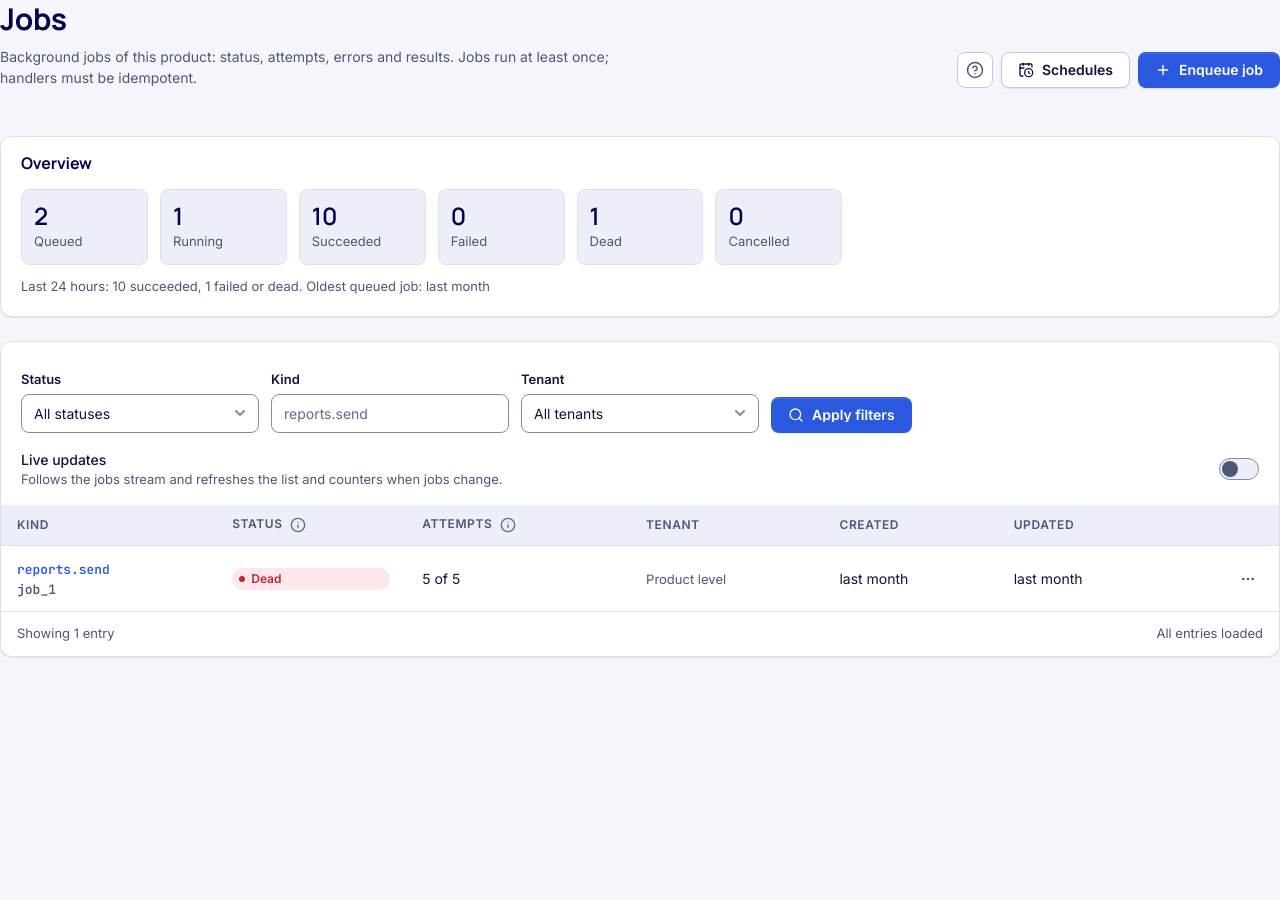
Test: JobsPage › retries a dead job after confirmation
What coordinates should you click on to do the following:
click the button named "Actions for job job_1"
I would click on:
 (1248, 579)
Its box is [1233, 564, 1263, 594].
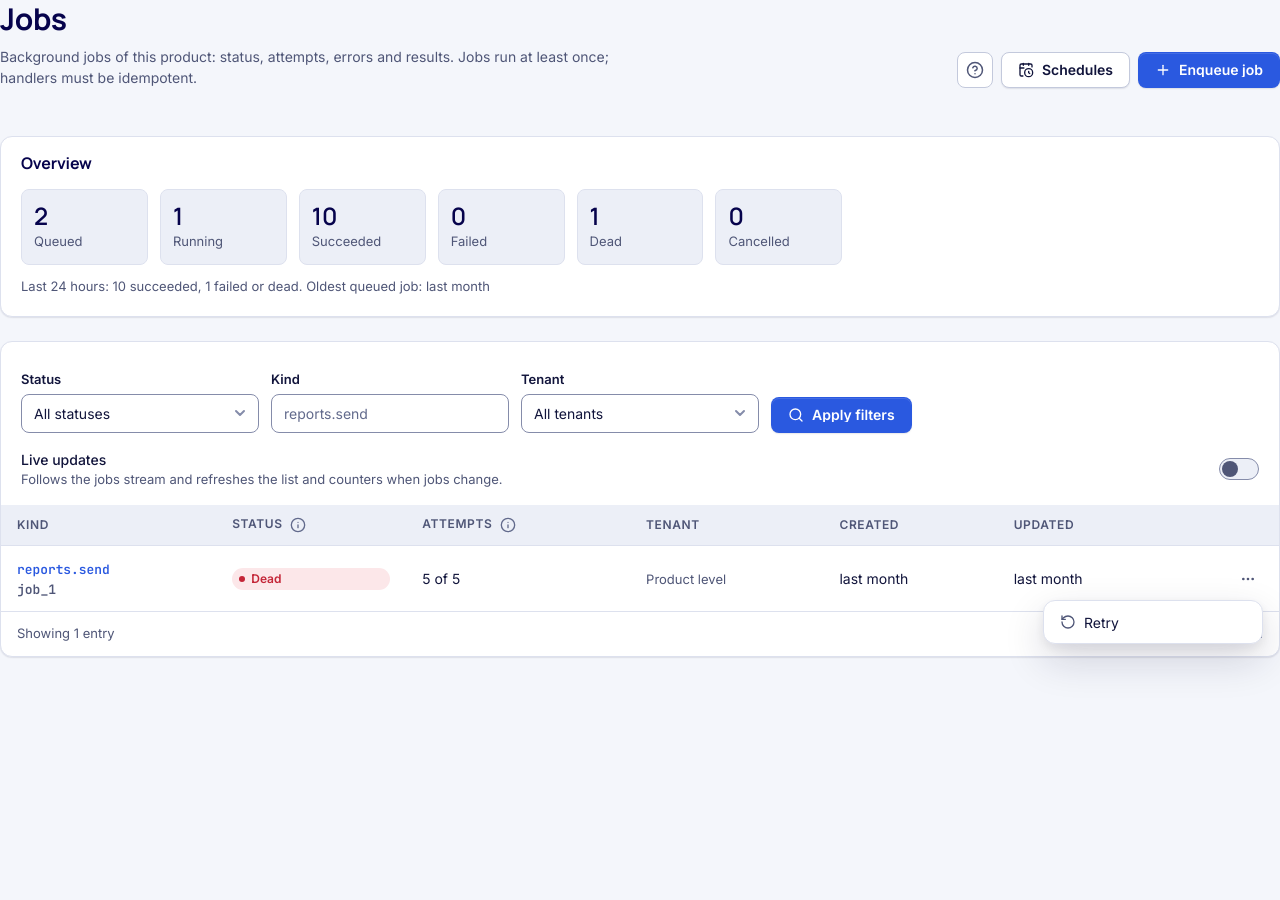
What coordinates should you click on to do the following:
click the menu item "Retry"
I would click on:
 (1089, 622)
Its box is [1060, 614, 1119, 630].
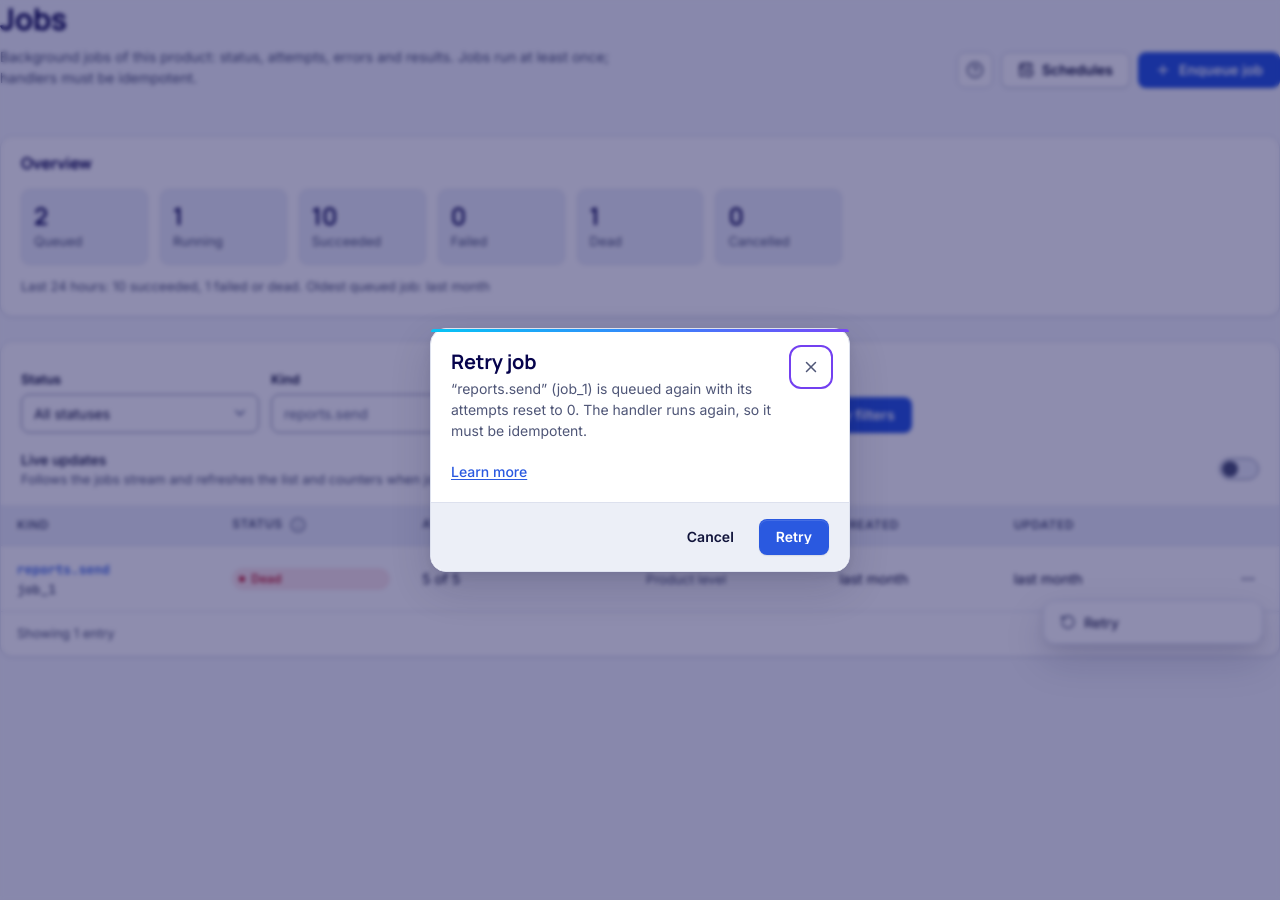
What coordinates should you click on to do the following:
click the button "Retry"
I would click on:
 (794, 537)
Its box is [759, 519, 829, 555].
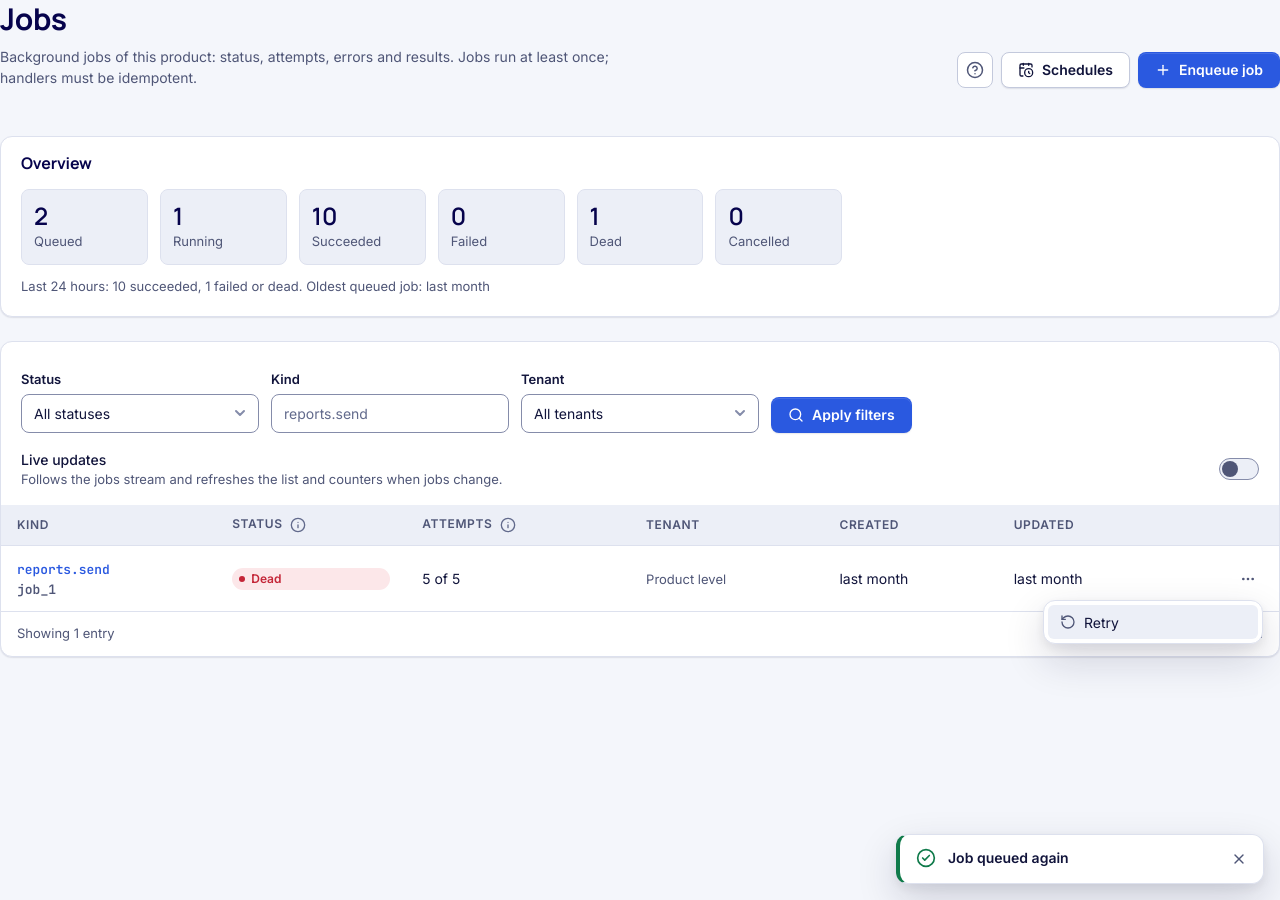
expect the text "Job queued again" is shown: met, box [948, 849, 1069, 866]
